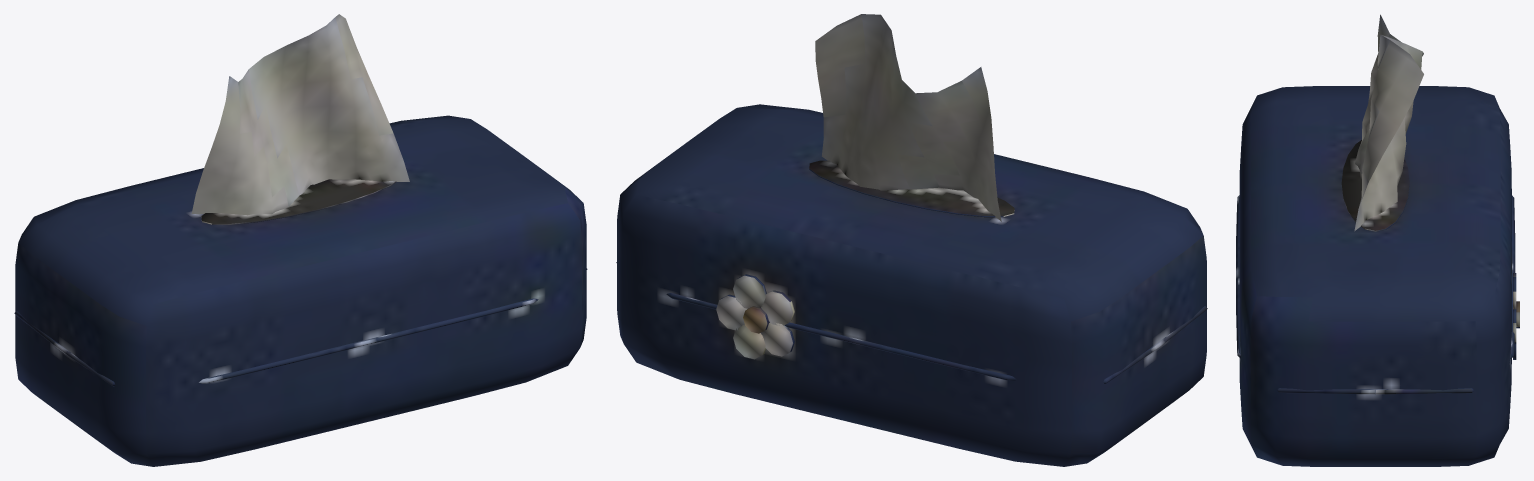
The model's file is tissue_indigo.glb.
3 views of the same model, side by side, from view 1: azimuth 30°, elevation 25°; view 2: azimuth 150°, elevation 25°; view 3: azimuth 270°, elevation 25° (orthographic). The views are drawn at different scales.
Parts seen in each view (by area): view 1: prop_tissue_indigo_felt; view 2: prop_tissue_indigo_felt; view 3: prop_tissue_indigo_felt.
Boxes of the visible parts, bbox=[...] form: prop_tissue_indigo_felt: bbox=[14, 14, 587, 466]; prop_tissue_indigo_felt: bbox=[616, 14, 1207, 466]; prop_tissue_indigo_felt: bbox=[1236, 14, 1519, 466].
Size of the model in its own units: 0.486 by 0.3394 by 0.25.
Materials: 1 (1 with a texture image).
